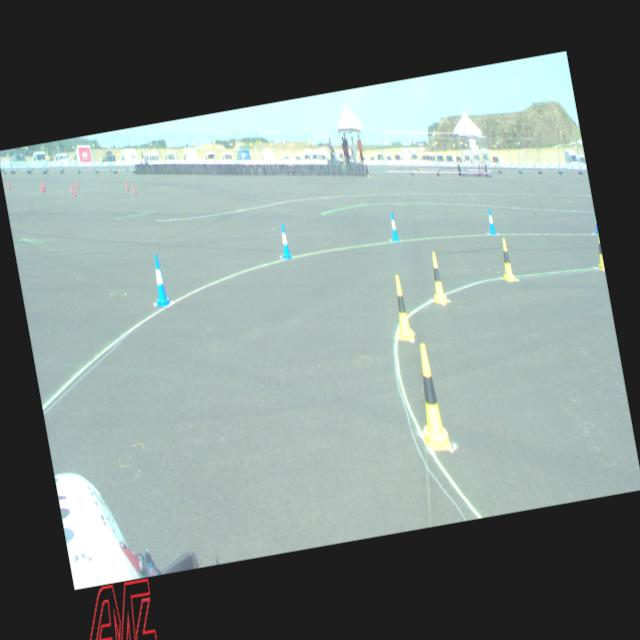blue_cone: (147, 252, 171, 308), (276, 222, 292, 260), (386, 210, 400, 242), (485, 207, 497, 235), (592, 215, 598, 234)
unknown_cone: (72, 183, 76, 196), (41, 181, 46, 191), (132, 182, 136, 194), (69, 182, 73, 193), (6, 178, 10, 188), (75, 178, 79, 188), (40, 182, 44, 192), (125, 180, 128, 191)
yellow_cone: (406, 341, 452, 453), (386, 274, 416, 344), (425, 250, 449, 306), (496, 236, 517, 282), (592, 233, 604, 270)
